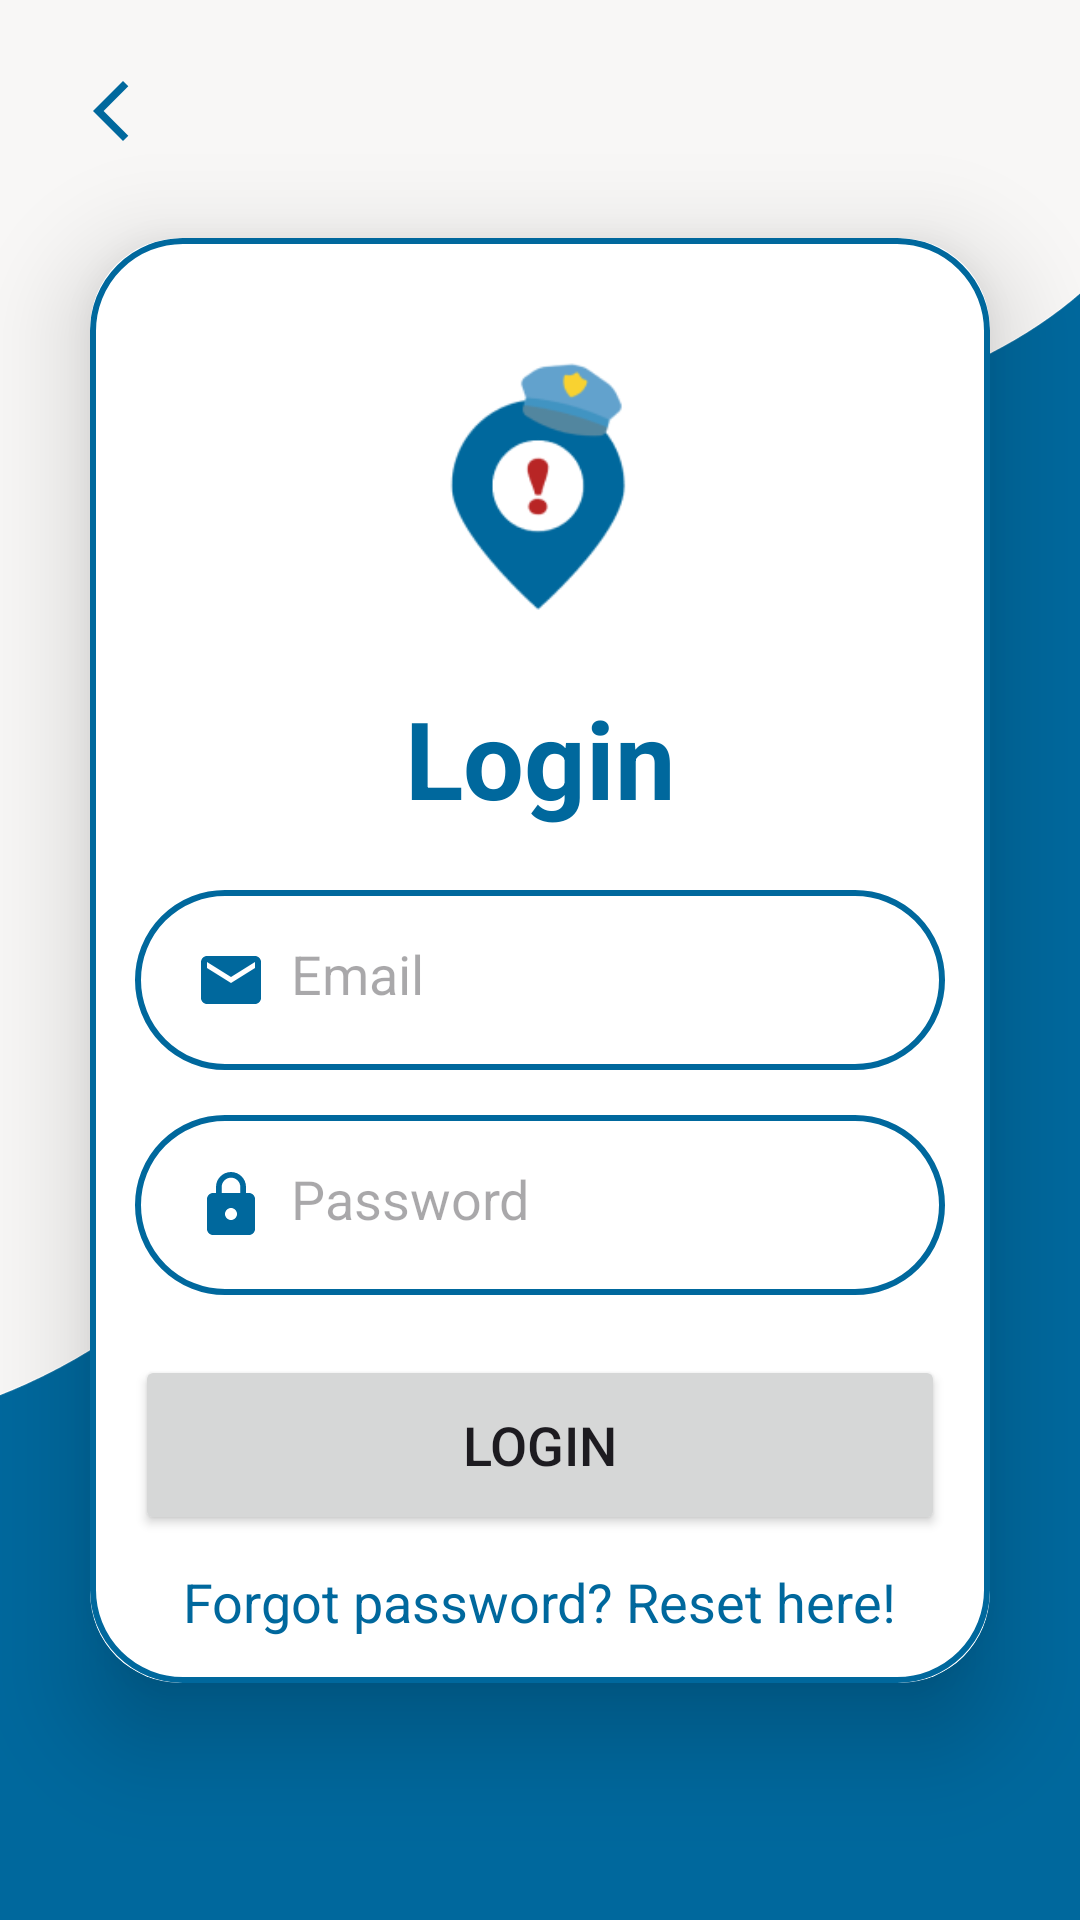

Where to tap for icons on this 1080w x 1920h app screen, as (x,y):
arrow back: (110,111)
safe guard: (538,486)
